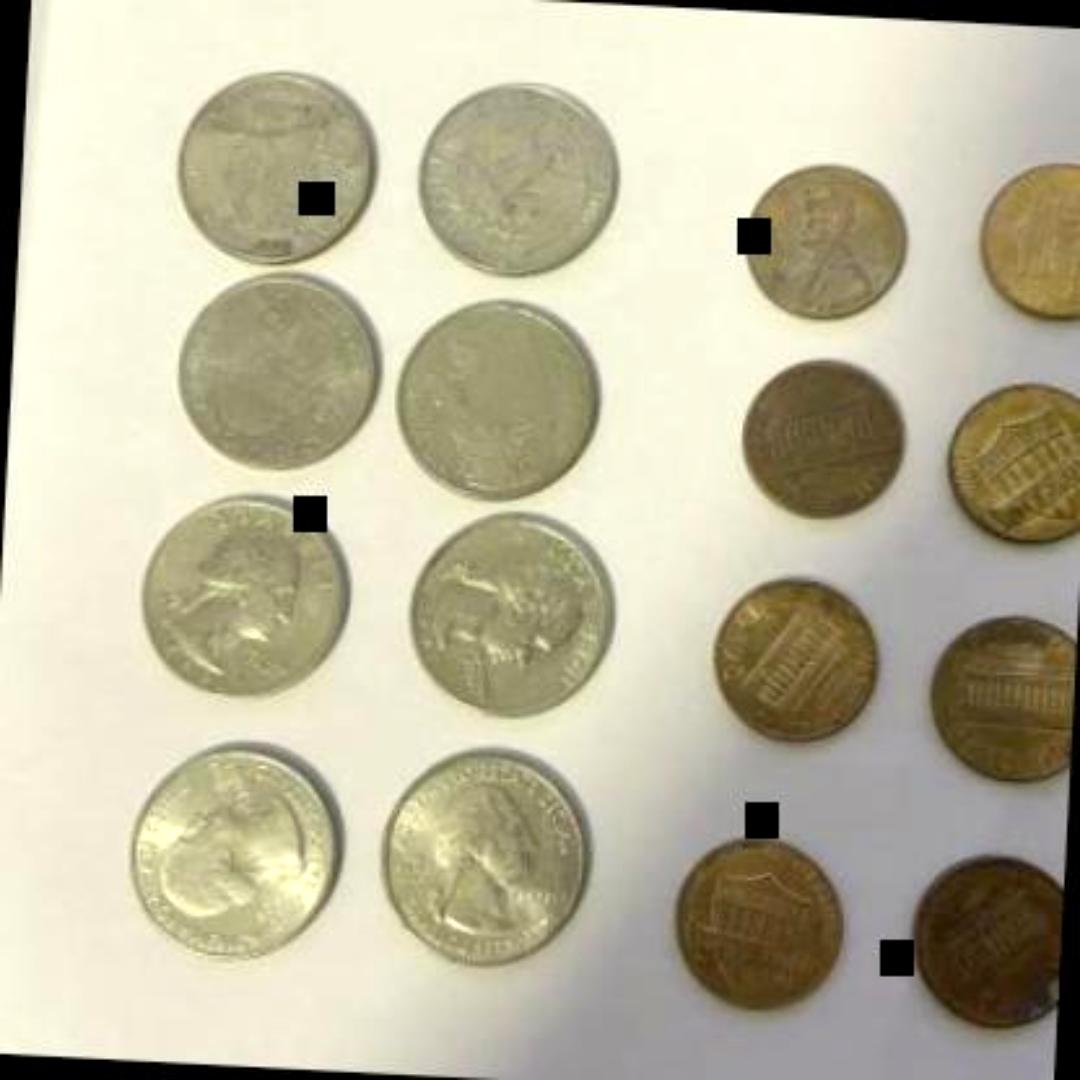Penny: (661, 830, 845, 1014), (698, 570, 876, 748), (730, 356, 910, 530), (900, 848, 1062, 1032), (734, 157, 906, 325), (918, 606, 1076, 786), (938, 382, 1080, 556), (968, 150, 1080, 332)
Quarter: (116, 730, 344, 962), (370, 745, 594, 973), (123, 487, 356, 705), (166, 265, 391, 477), (405, 71, 625, 283), (382, 297, 604, 502), (399, 508, 611, 720), (165, 62, 377, 268)
